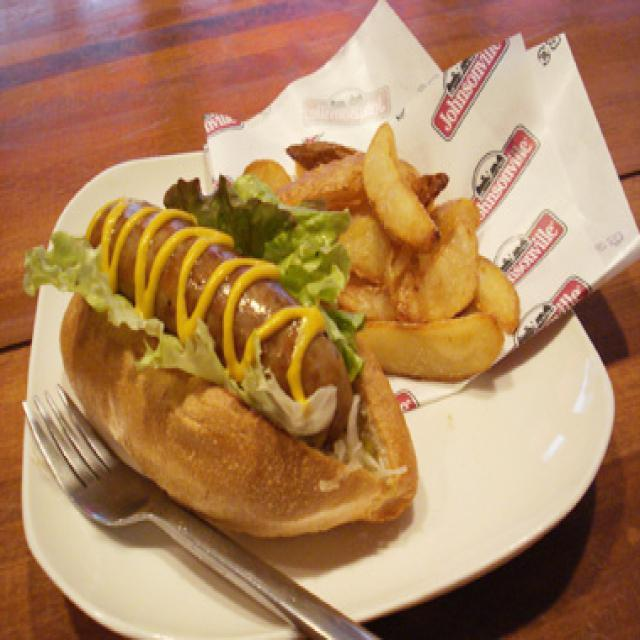Hot Dog: (44, 178, 403, 535)
